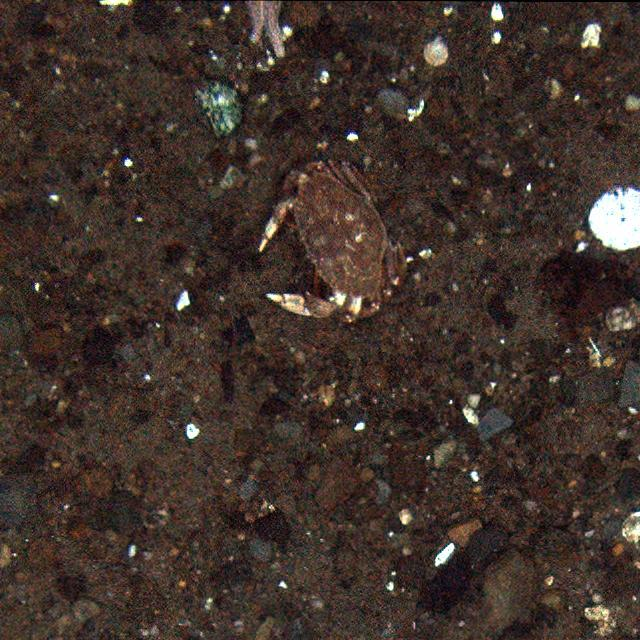crab: (260, 163, 403, 325)
